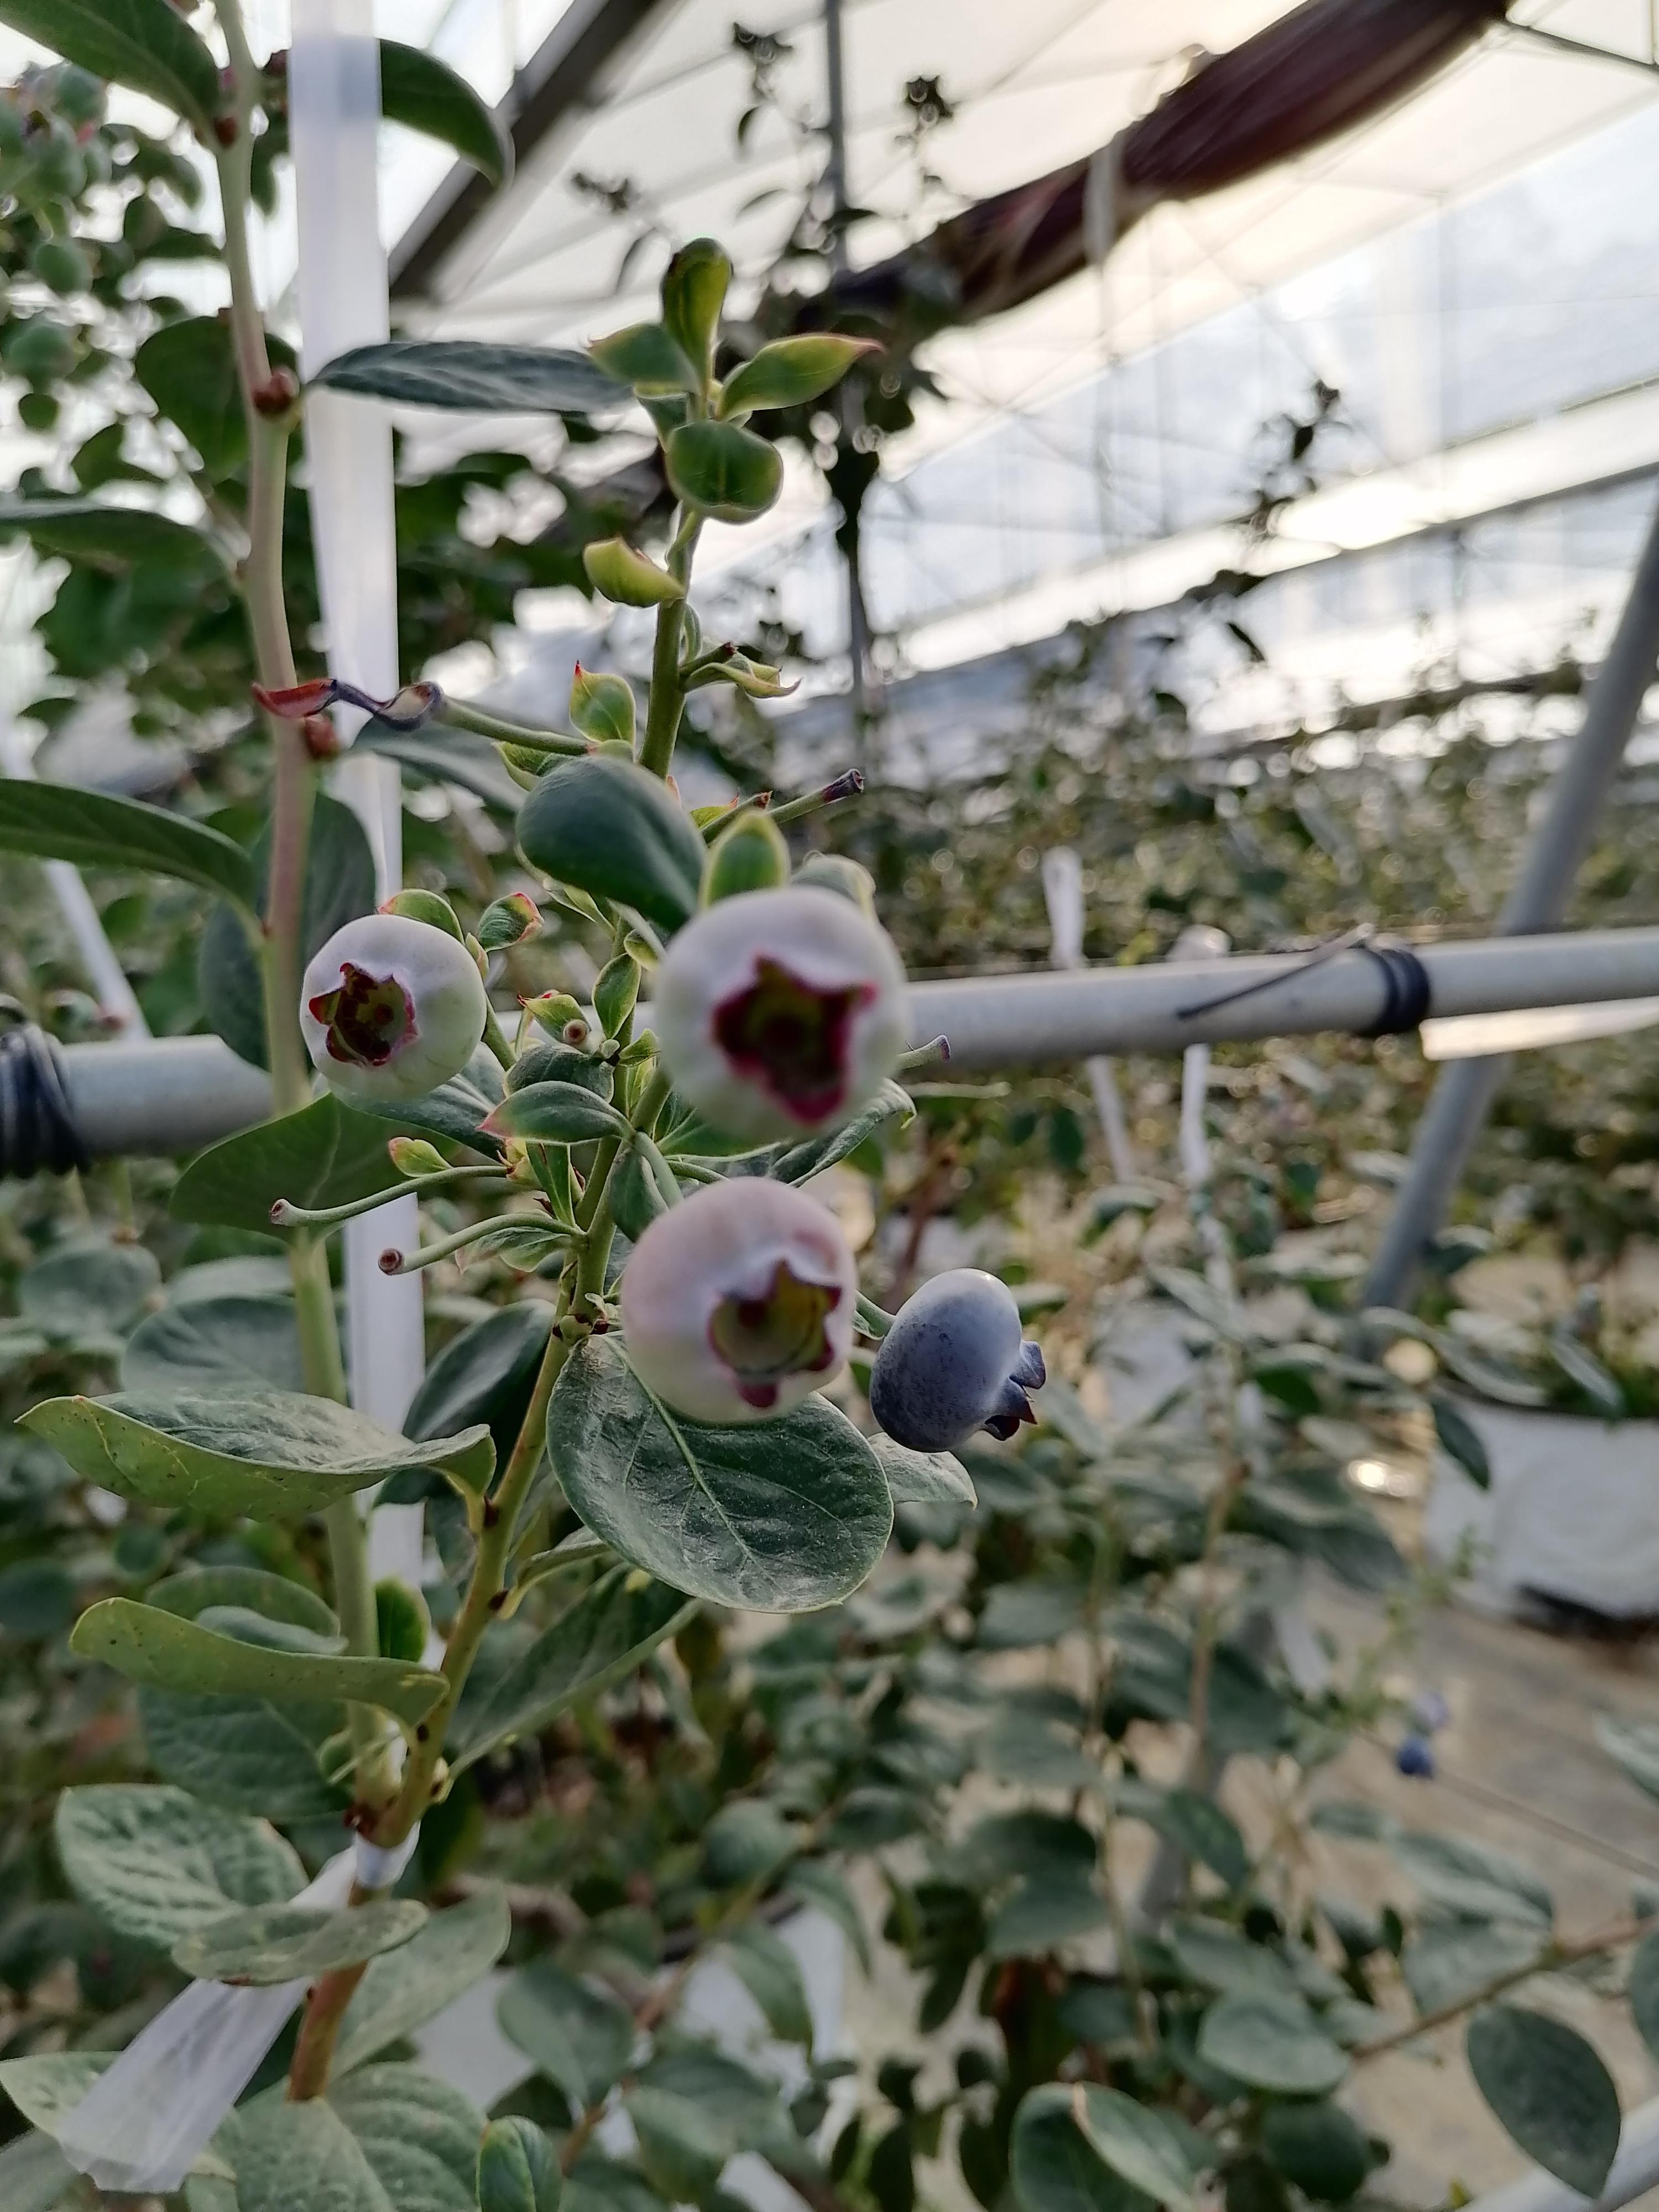ripe-blueberries: (870, 1266, 1046, 1454)
